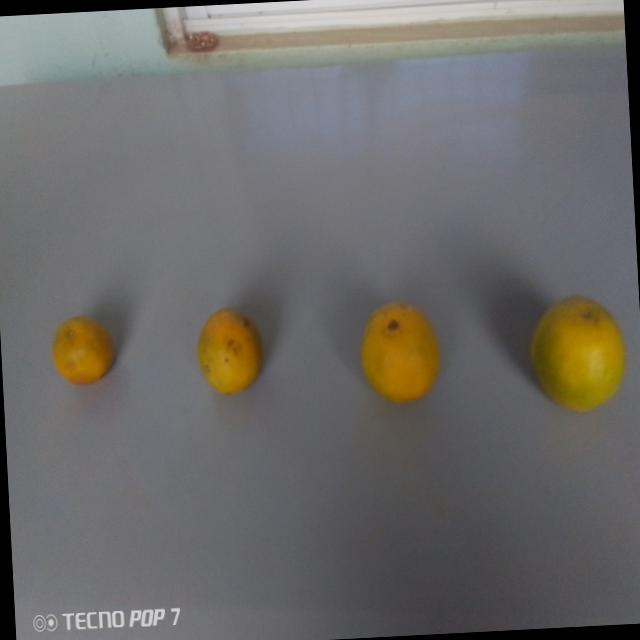Ripe orange: (522, 287, 636, 430), (354, 298, 448, 417), (172, 297, 270, 410), (44, 306, 120, 397)
